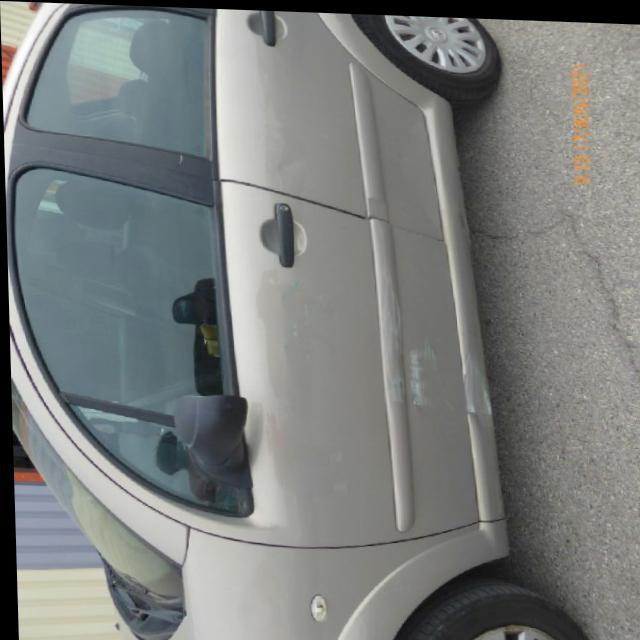porte-avant: (8, 142, 501, 550)
